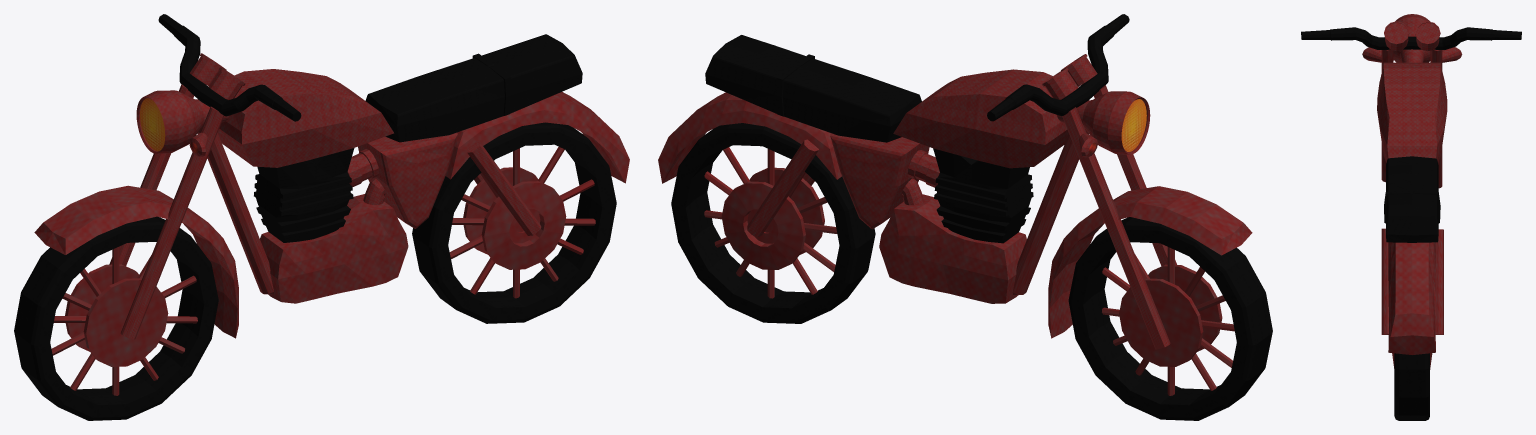
Rendered from ODM.fbx.
3 views of the same model, side by side, from view 1: azimuth 30°, elevation 25°; view 2: azimuth 150°, elevation 25°; view 3: azimuth 270°, elevation 25° (orthographic). The views are drawn at different scales.
Parts seen in each view (by area): view 1: ODM; view 2: ODM; view 3: ODM.
Boxes of the visible parts, bbox=[...] form: ODM: bbox=[14, 14, 629, 420]; ODM: bbox=[658, 14, 1272, 420]; ODM: bbox=[1301, 14, 1521, 420].
Size of the model in its own units: 223 by 118 by 87.05.
Materials: 1 (1 with a texture image).
